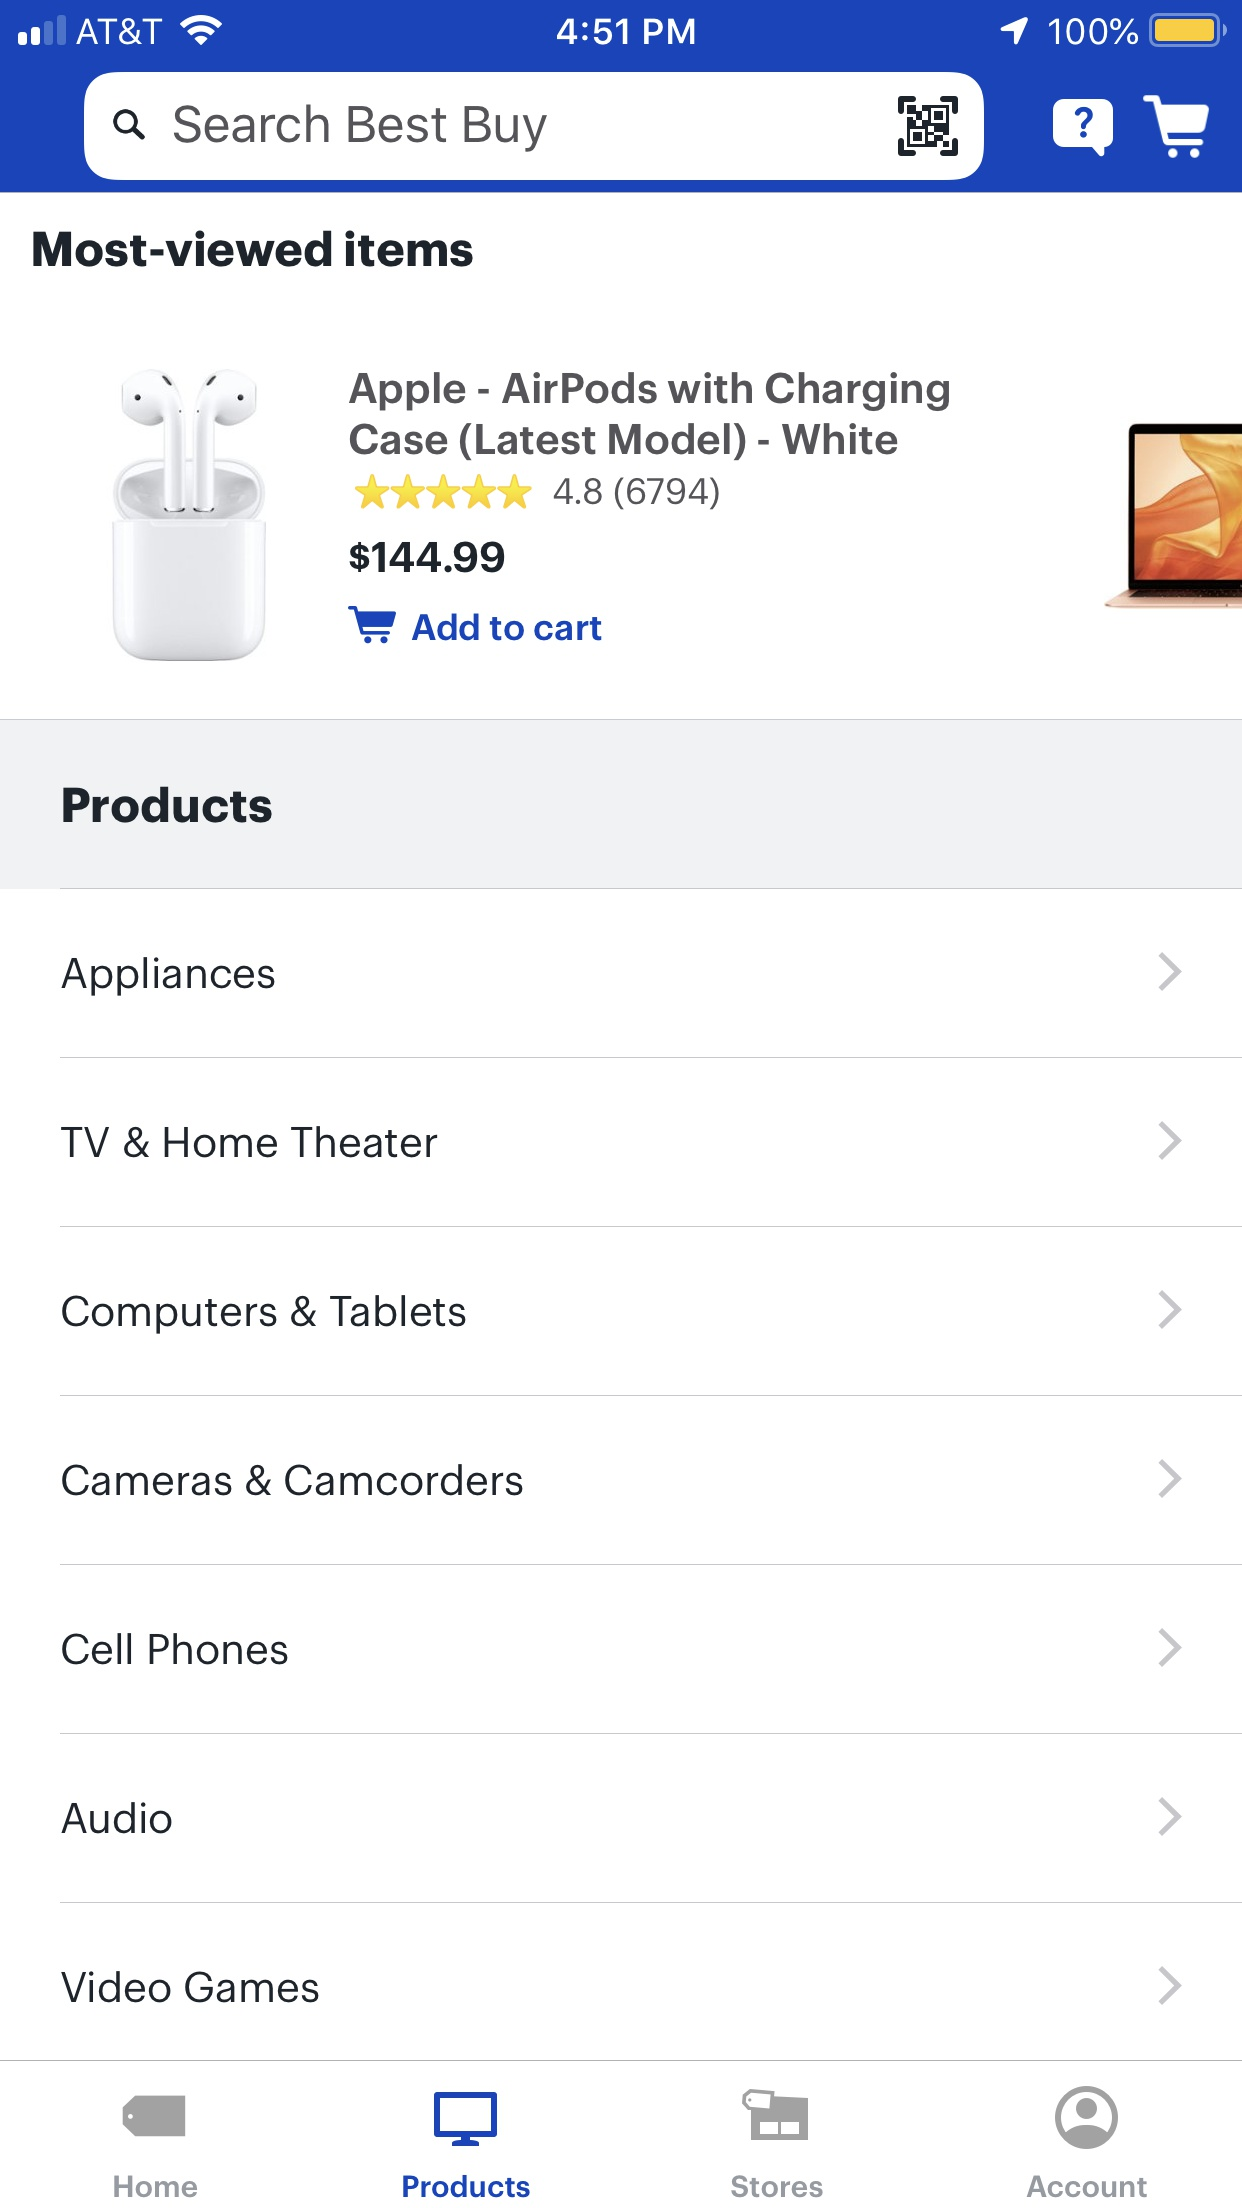EditText: (83, 71, 986, 180)
Icon: (353, 473, 532, 510), (1142, 96, 1210, 161), (1054, 2087, 1119, 2150), (1052, 99, 1115, 158), (123, 2094, 187, 2137), (349, 605, 397, 645), (1157, 951, 1183, 990), (1159, 1965, 1183, 2006), (1159, 1796, 1183, 1836), (1157, 1627, 1181, 1668), (1159, 1457, 1183, 1498), (1159, 1289, 1183, 1330), (1159, 1121, 1183, 1162), (114, 111, 146, 141)
Image: (114, 369, 267, 663), (1102, 422, 1240, 611), (898, 96, 958, 158), (434, 2091, 499, 2147), (742, 2088, 808, 2140)
Text: (347, 372, 949, 463), (174, 105, 547, 153), (33, 231, 475, 268), (62, 1295, 467, 1336), (62, 1463, 525, 1497), (61, 1127, 438, 1159), (61, 955, 276, 996), (61, 1970, 320, 2003), (64, 787, 273, 825), (62, 1632, 290, 1667), (554, 476, 720, 511), (412, 613, 604, 641), (349, 541, 505, 575), (61, 1802, 173, 1835), (403, 2175, 532, 2199), (1027, 2175, 1148, 2197), (731, 2175, 823, 2199), (114, 2173, 199, 2197)
UpperTaskBar: (2, 2, 1242, 49)
